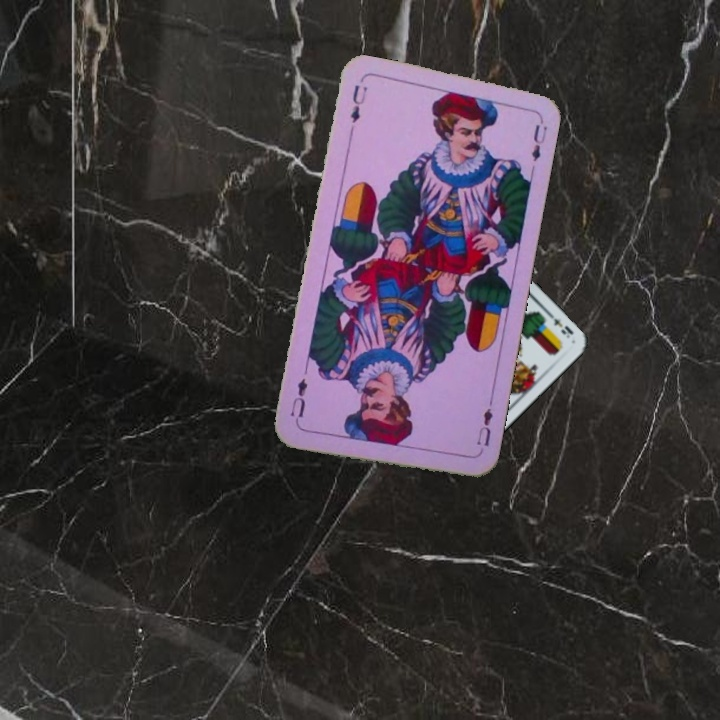EK: (543, 308, 576, 341)
EU: (472, 397, 496, 456), (345, 80, 369, 138)
